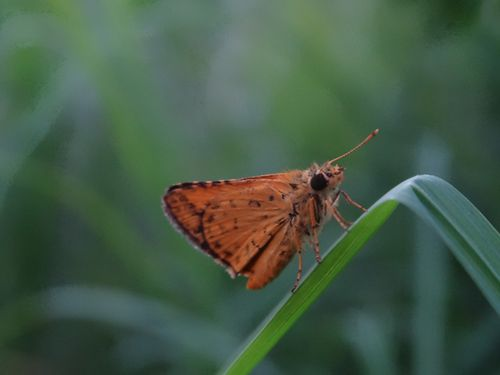Hesperiidae: (164, 127, 388, 295)
